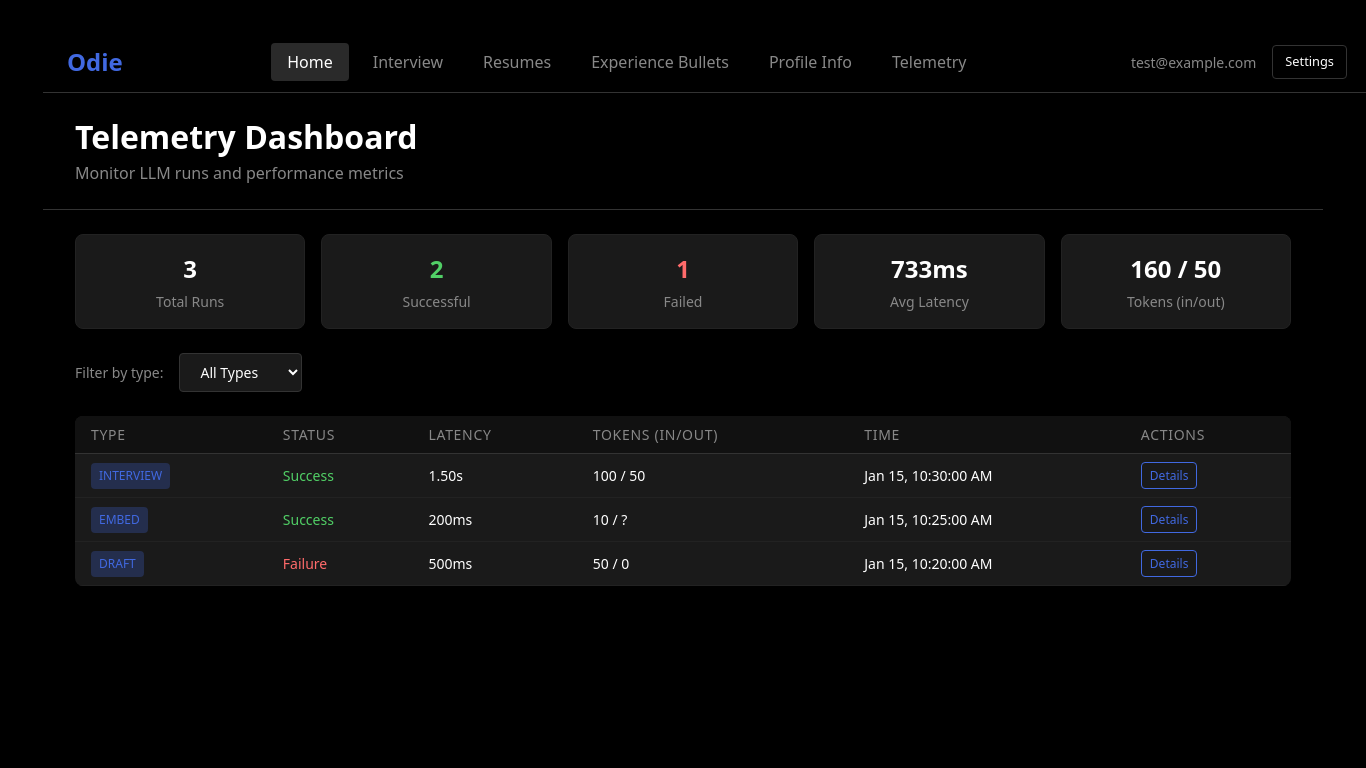
Test: TelemetryPage › should filter runs when type is selected
Select "Interview" in the dropdown with test id "telemetry-filter". click: [241, 372]
box: [179,353,302,392]
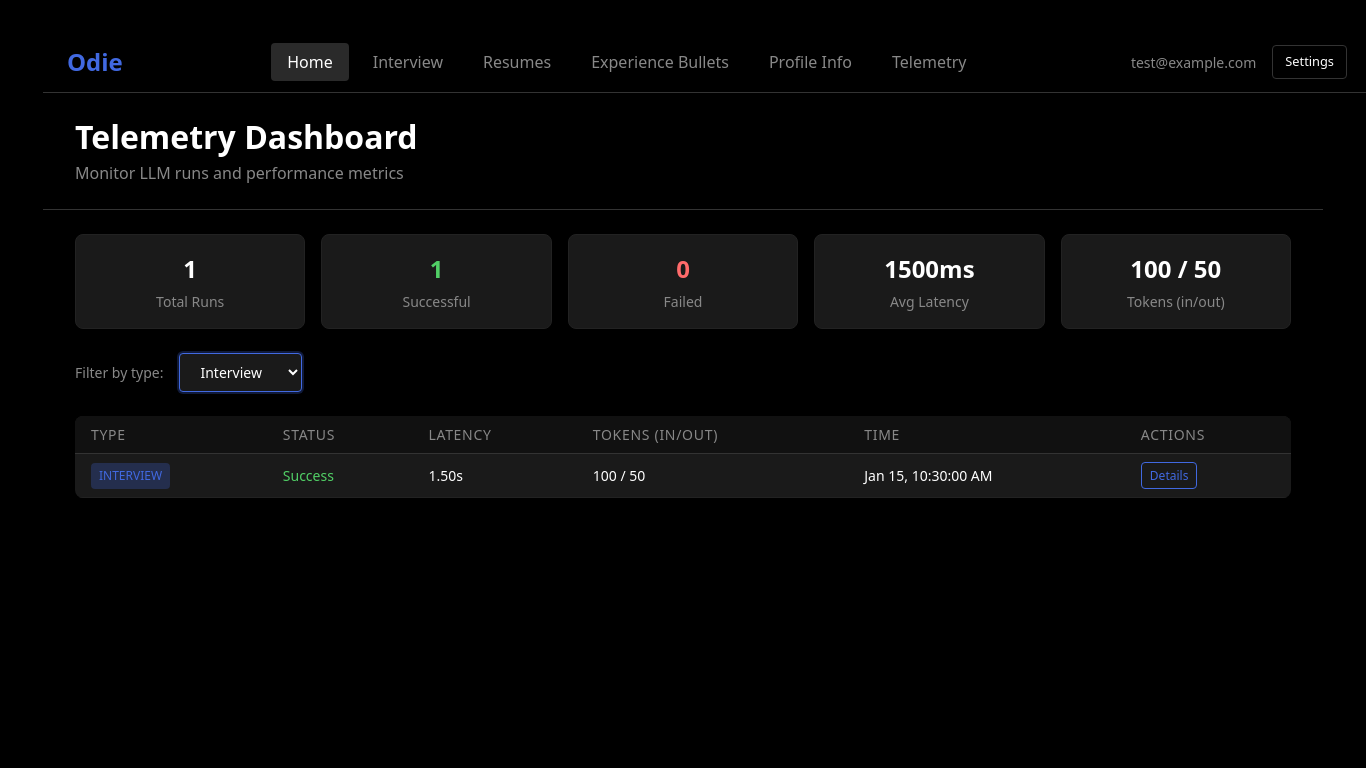
Expected: the row with test id "run-row-run-1" is shown, [75,454,1291,498]
Expected: the row with test id "run-row-run-2" is gone
Expected: the row with test id "run-row-run-3" is gone
